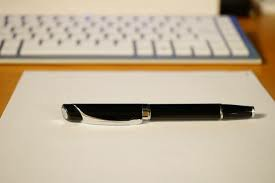pen: (56, 99, 264, 131)
